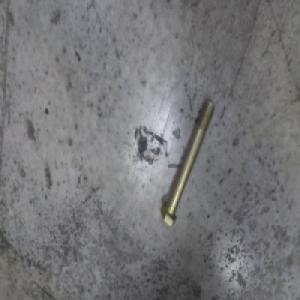Bolt: (159, 97, 213, 225)
